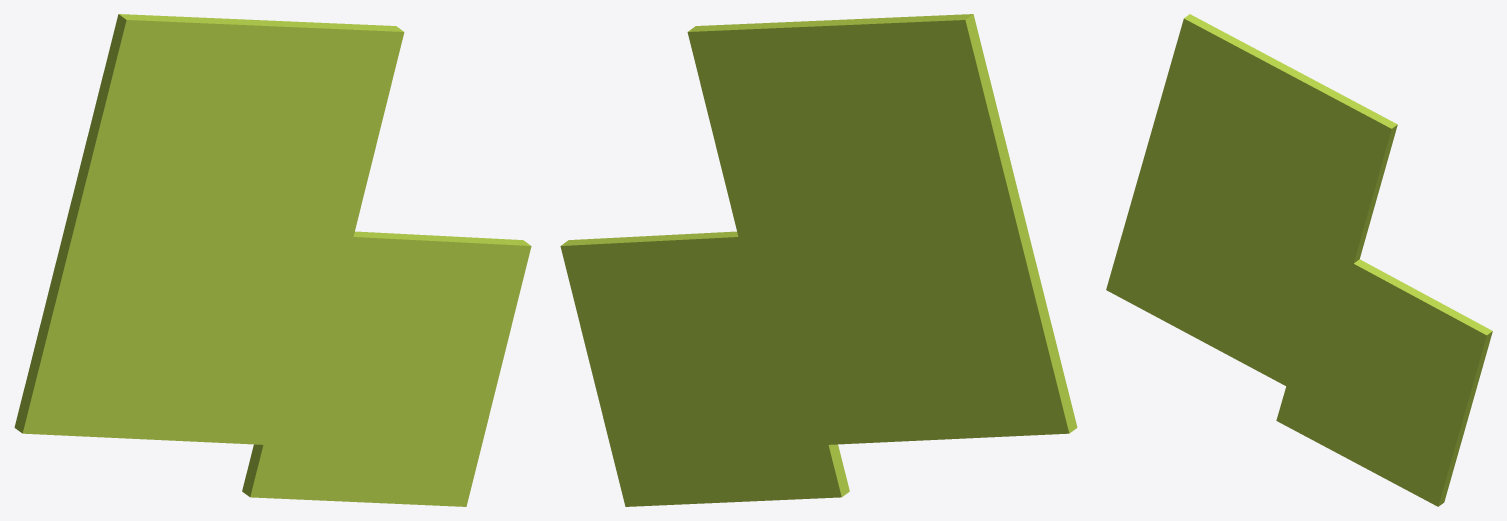
3 views of the same model, side by side, from view 1: azimuth 30°, elevation 25°; view 2: azimuth 150°, elevation 25°; view 3: azimuth 330°, elevation 25° (orthographic). The views are drawn at different scales.
Parts seen in each view (by area): view 1: osm-way27917482-F0; view 2: osm-way27917482-F0; view 3: osm-way27917482-F0.
Boxes of the visible parts, x1,y1,x2,y2 form: osm-way27917482-F0: (14, 14, 531, 506); osm-way27917482-F0: (560, 14, 1077, 506); osm-way27917482-F0: (1106, 14, 1492, 506).
Size of the model in its own units: 5.41 by 5.79 by 0.15.
